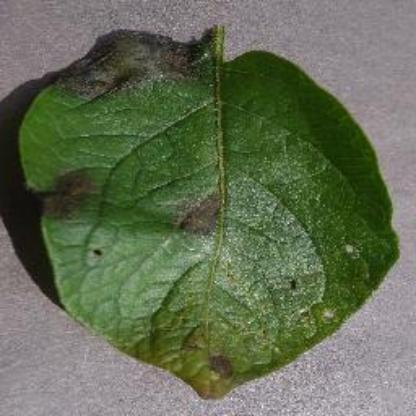Late-Blight: (13, 21, 401, 401)
